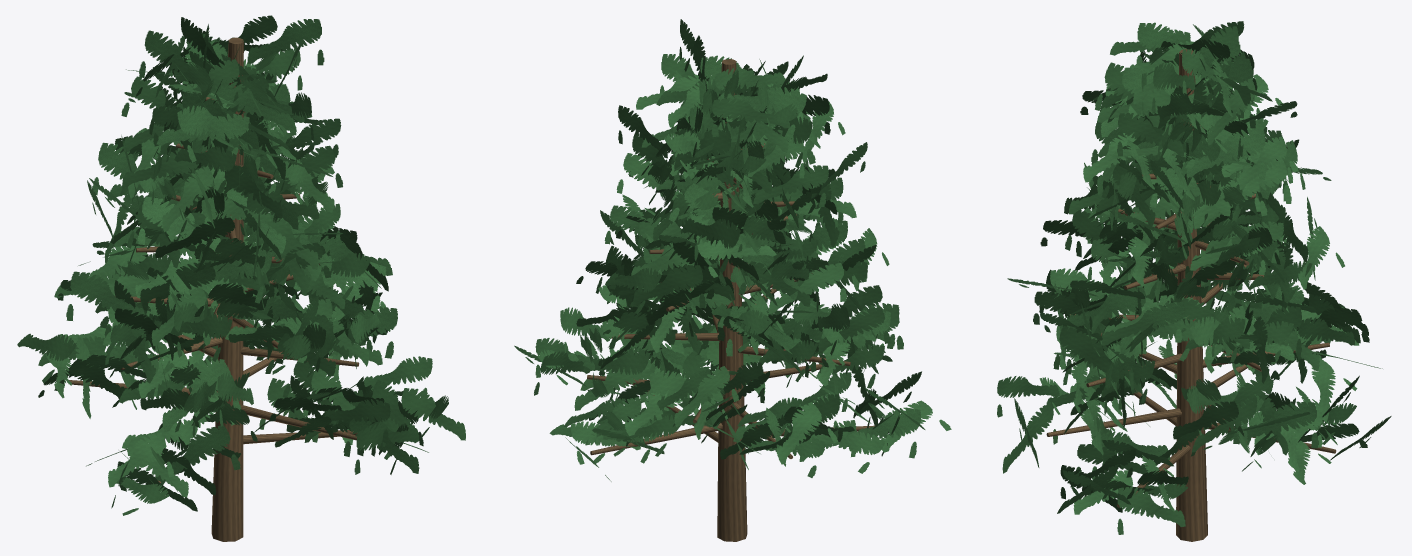
The picture shows the model from 3 angles, left to right: view 1: azimuth 30°, elevation 25°; view 2: azimuth 150°, elevation 25°; view 3: azimuth 270°, elevation 25°; orthographic projection. The views are drawn at different scales.
Parts seen in each view (by area): view 1: pine-needle, pine-bark; view 2: pine-needle, pine-bark; view 3: pine-needle, pine-bark.
Boxes of the visible parts, bbox=[...] form: pine-needle: bbox=[17, 15, 465, 515]; pine-bark: bbox=[69, 37, 359, 541]; pine-needle: bbox=[514, 19, 951, 481]; pine-bark: bbox=[587, 59, 875, 541]; pine-needle: bbox=[997, 21, 1391, 534]; pine-bark: bbox=[1046, 49, 1336, 541].
Size of the model in its own units: 7.8 by 10.43 by 7.64.
2 materials, 2 textured.
